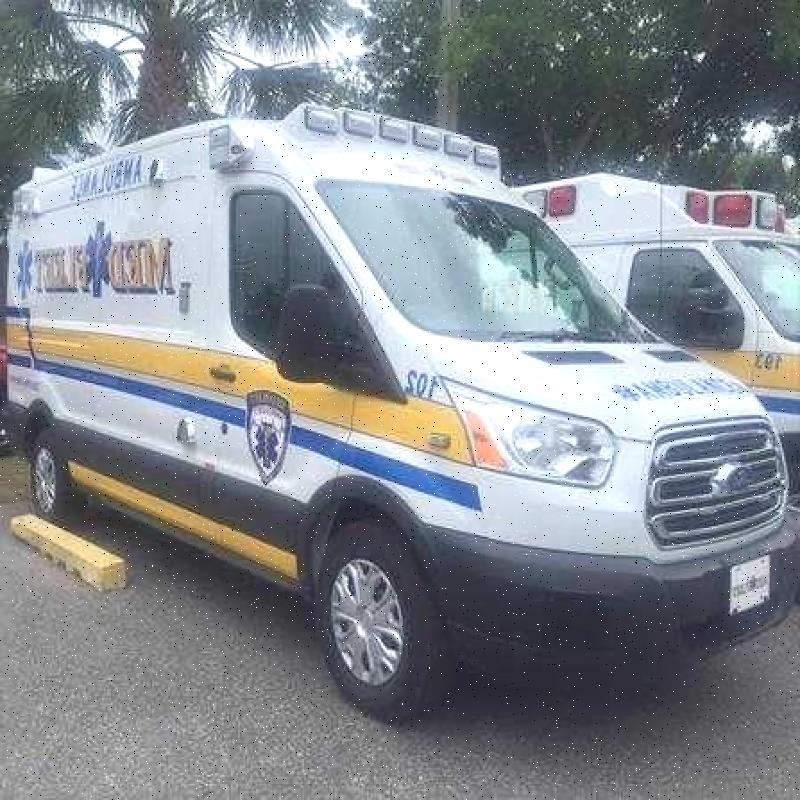AmbulanceSiren: (285, 88, 527, 176)
